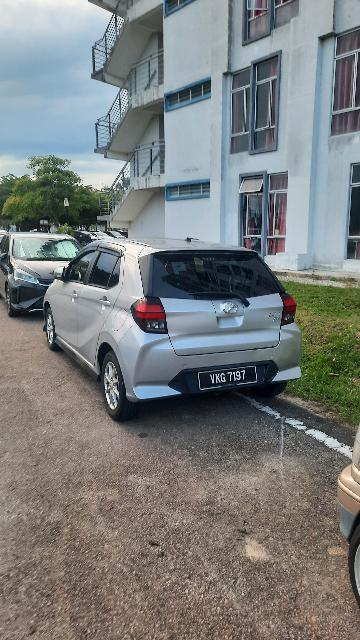License_Plate: (197, 366, 262, 393)
car: (45, 240, 310, 426), (2, 228, 91, 326)
